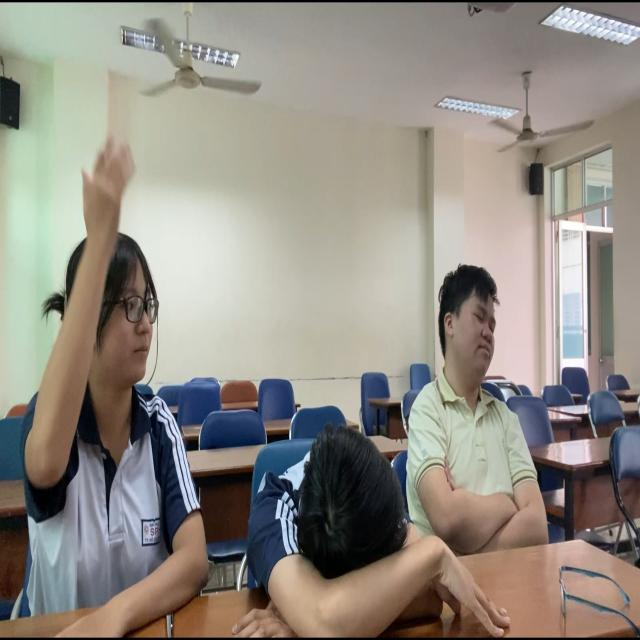raise_hand: (1, 134, 233, 640)
sleep: (241, 427, 449, 640)
